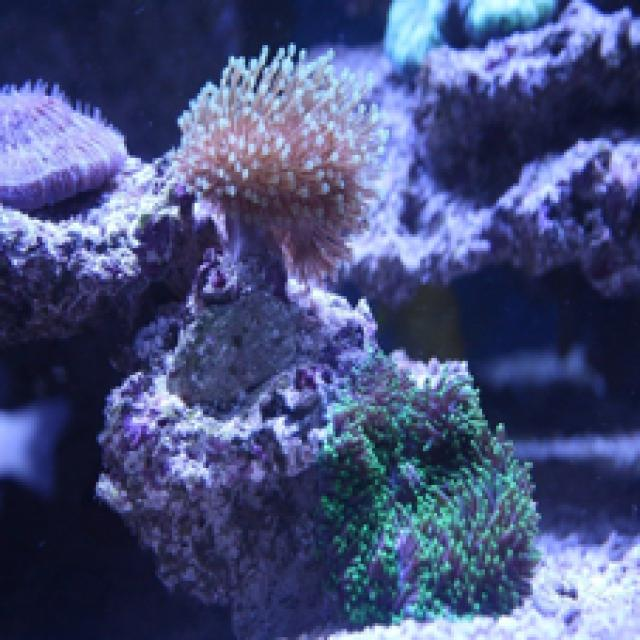Healthy: (322, 365, 537, 624), (179, 46, 382, 277), (1, 86, 122, 210)
